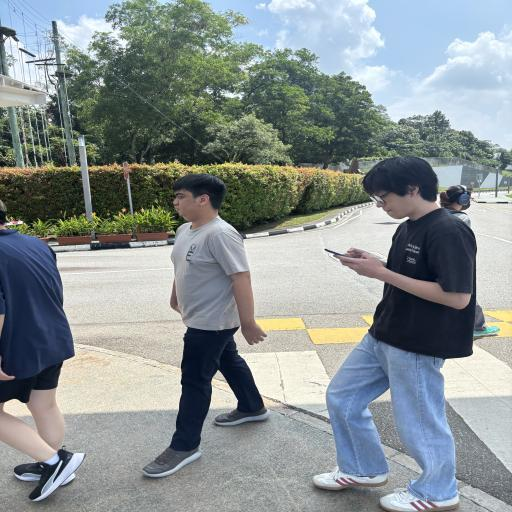person_left: (346, 156, 466, 508), (158, 162, 264, 486)
